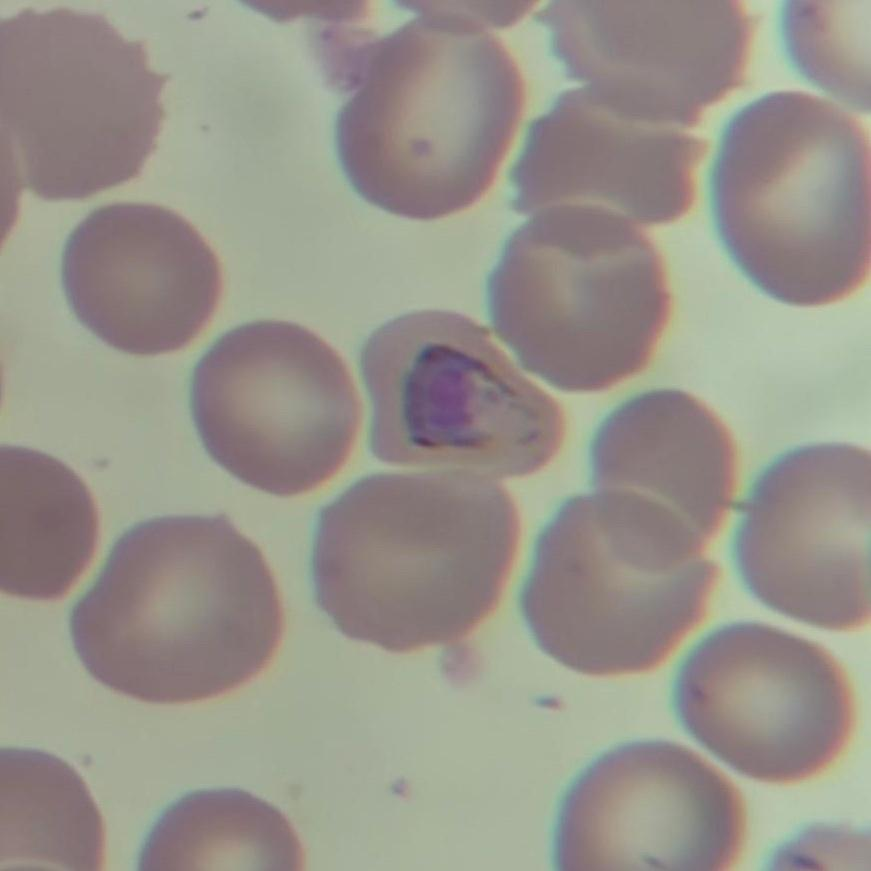Infected: (360, 310, 566, 479)
Uninfected: (312, 465, 522, 647), (68, 519, 280, 699), (333, 20, 522, 221), (708, 89, 871, 308), (525, 492, 712, 677), (490, 210, 664, 390), (0, 10, 162, 201), (193, 320, 360, 493), (508, 92, 696, 238), (682, 622, 852, 783), (560, 737, 750, 871), (597, 392, 738, 571), (543, 0, 747, 121), (742, 444, 871, 629), (62, 207, 219, 358), (0, 445, 96, 599), (135, 789, 306, 871), (0, 750, 103, 871)
